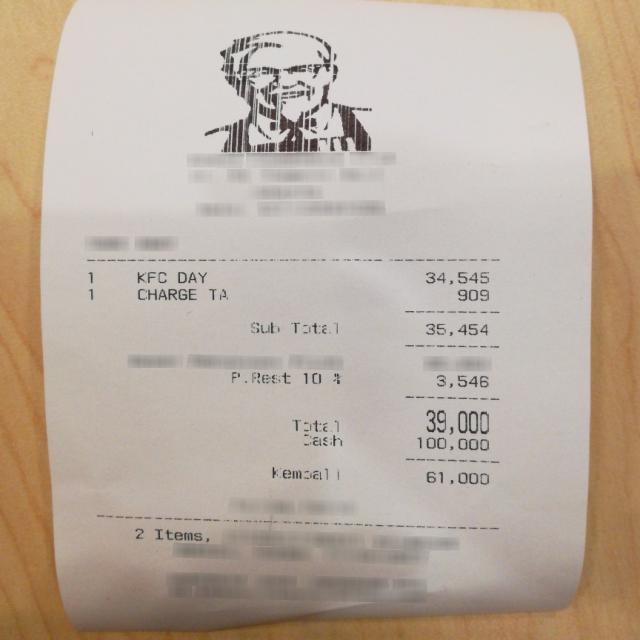kertas: (41, 0, 593, 630)
